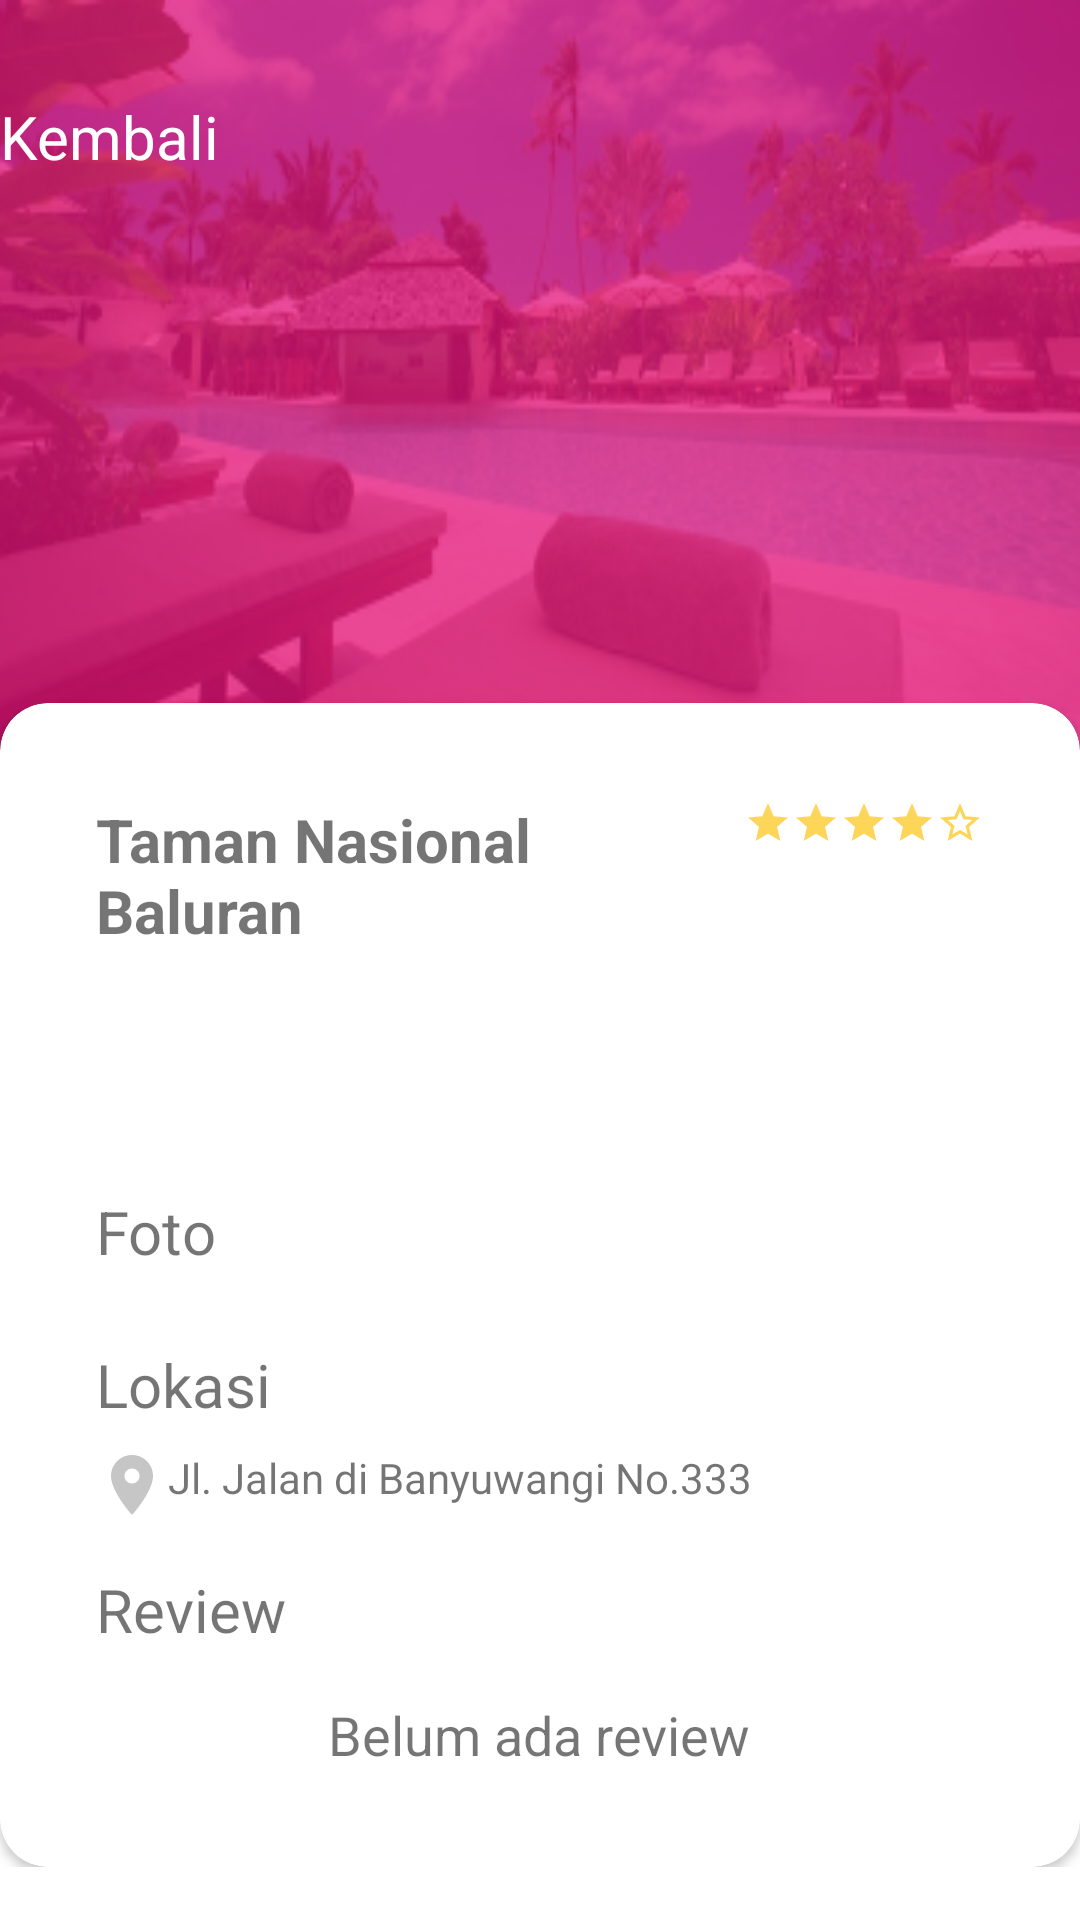

Icons on this 1080px×1920px Android screen, each with its box as bbox=(x1, y1, x2, y2):
star: bbox=(748, 803, 788, 841), bbox=(796, 803, 836, 841), bbox=(844, 803, 884, 841), bbox=(892, 803, 932, 841)
star border: bbox=(940, 803, 980, 841)
